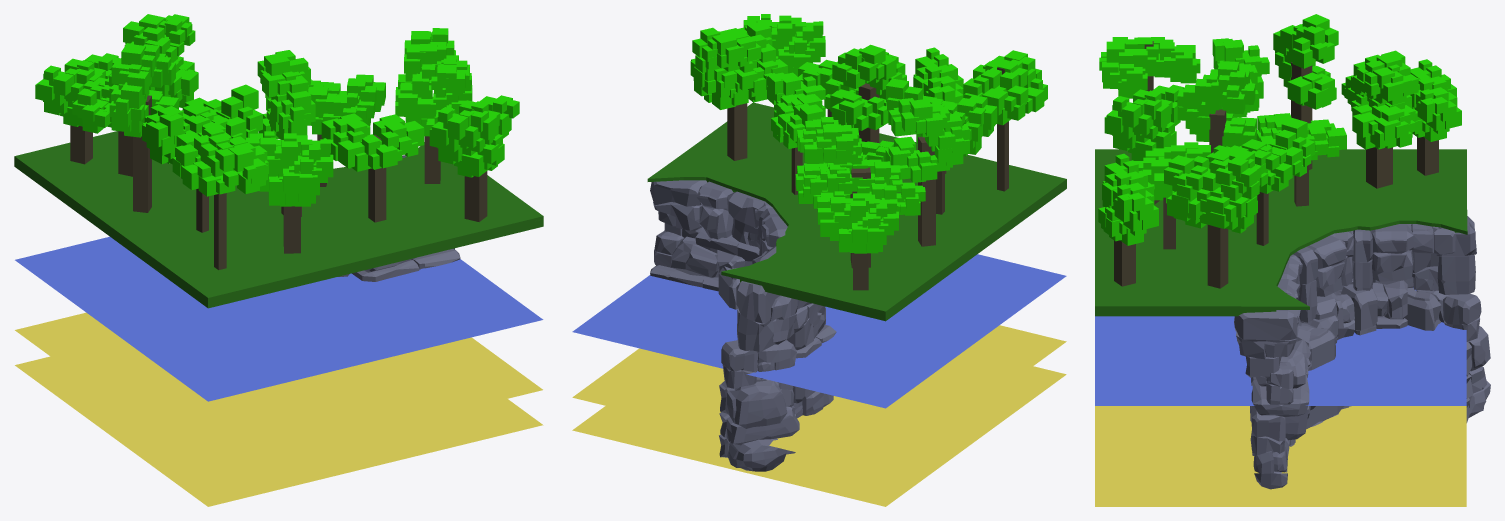
File: 48__tile.fbx
The picture shows the model from 3 angles, left to right: view 1: azimuth 30°, elevation 25°; view 2: azimuth 150°, elevation 25°; view 3: azimuth 270°, elevation 25°; orthographic projection. The views are drawn at different scales.
Visible parts, largest first — view 1: 48__tile; view 2: 48__tile; view 3: 48__tile.
Part boxes in pixels (left/top/right/bottom): 48__tile: left=14, top=14, right=543, bottom=506; 48__tile: left=572, top=14, right=1066, bottom=506; 48__tile: left=1095, top=14, right=1490, bottom=506.
Size of the model in its own units: 205 by 207 by 213.
